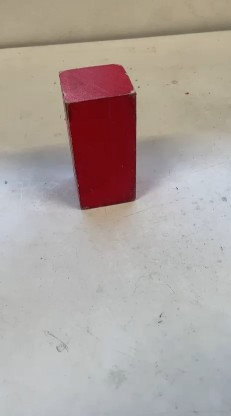red: (54, 61, 138, 195)
